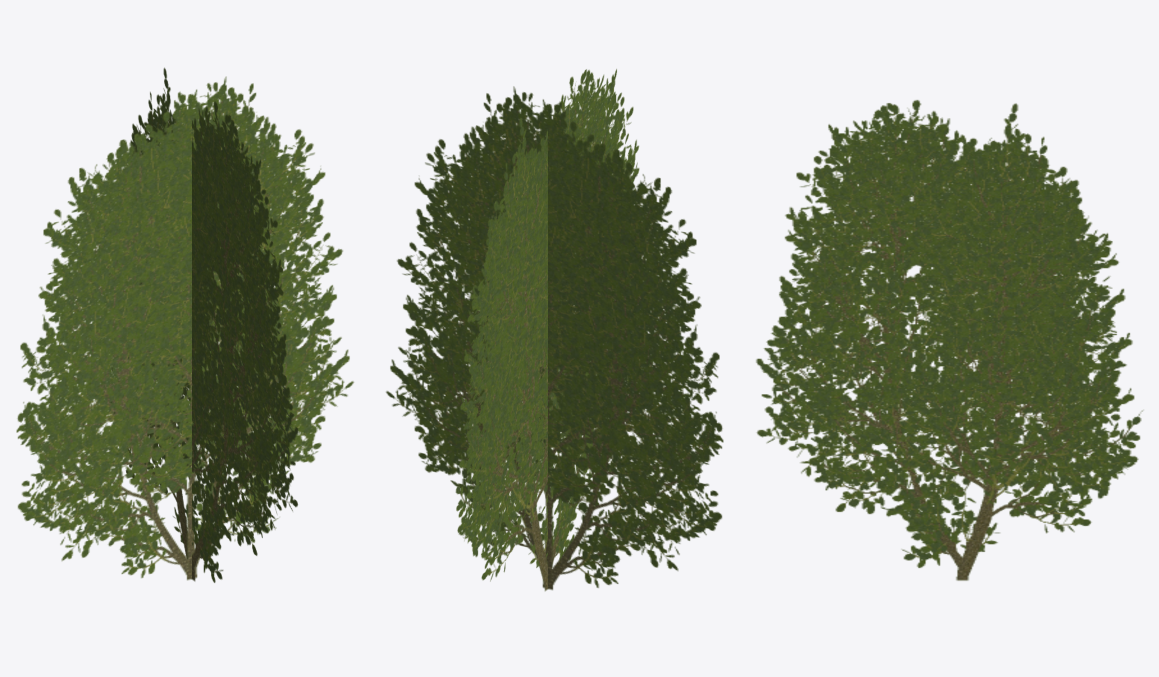
File: FrangulaAlnus.glb
The picture shows the model from 3 angles, left to right: view 1: azimuth 30°, elevation 25°; view 2: azimuth 150°, elevation 25°; view 3: azimuth 270°, elevation 25°; orthographic projection. The views are drawn at different scales.
Visible parts, largest first — view 1: mesh__mat_billboard_5; view 2: mesh__mat_billboard_5; view 3: mesh__mat_billboard_5.
Boxes of the visible parts, box(x1,y1,x2,y2) form: mesh__mat_billboard_5: box(16, 67, 353, 582); mesh__mat_billboard_5: box(386, 69, 723, 591); mesh__mat_billboard_5: box(756, 100, 1142, 580).
Bounding box in the file's own units: 4.53 × 6.36 × 4.62.
Materials: 1 (1 with a texture image).
